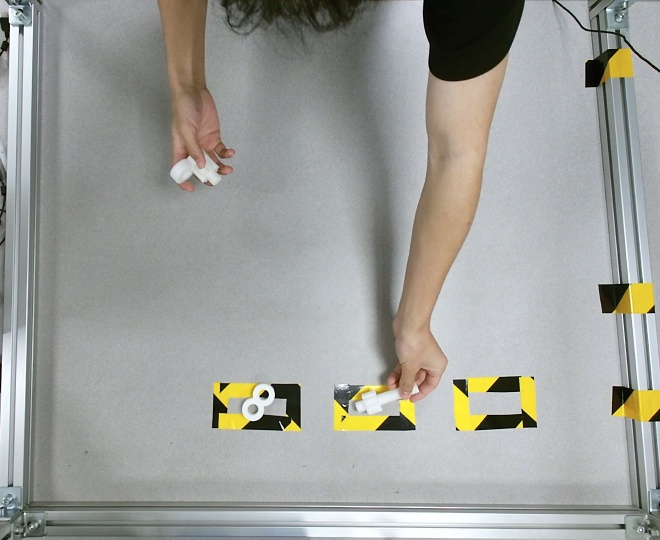stage_2: (170, 148, 222, 186)
